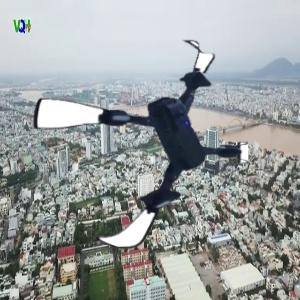drone: (33, 36, 250, 253)
